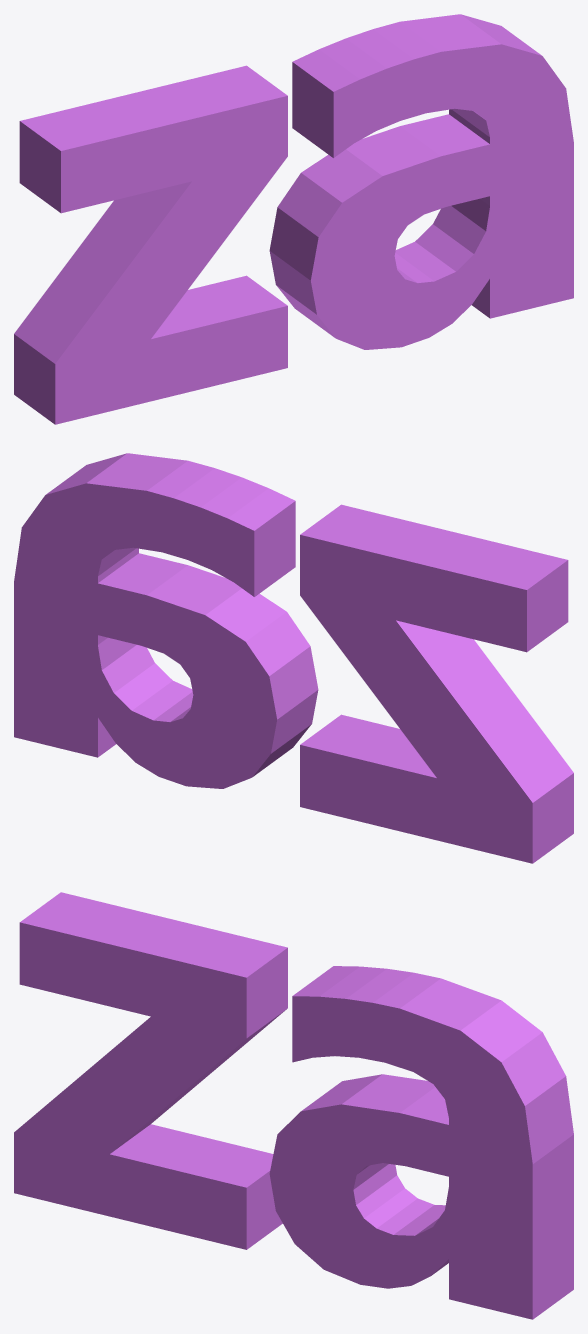
The model's file is suku_kecil_za.glb.
The picture shows the model from 3 angles, top to bottom: view 1: azimuth 30°, elevation 25°; view 2: azimuth 150°, elevation 25°; view 3: azimuth 330°, elevation 25°; orthographic projection.
Visible parts, largest first — view 1: geometry_0; view 2: geometry_0; view 3: geometry_0.
Part boxes in pixels (box(x1,y1,x2,y2)): geometry_0: box(14, 14, 573, 424); geometry_0: box(14, 453, 573, 863); geometry_0: box(14, 892, 573, 1319).
Size of the model in its own units: 10.9 by 5.74 by 1.5.
